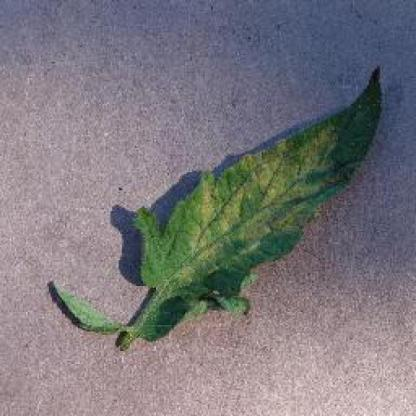Tomato_Leaf_Mold: (132, 63, 384, 312)
